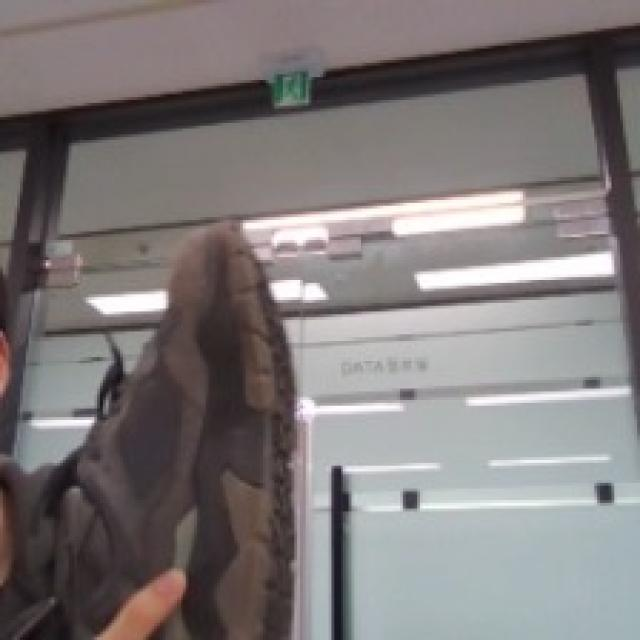shoe: (57, 162, 343, 640)
